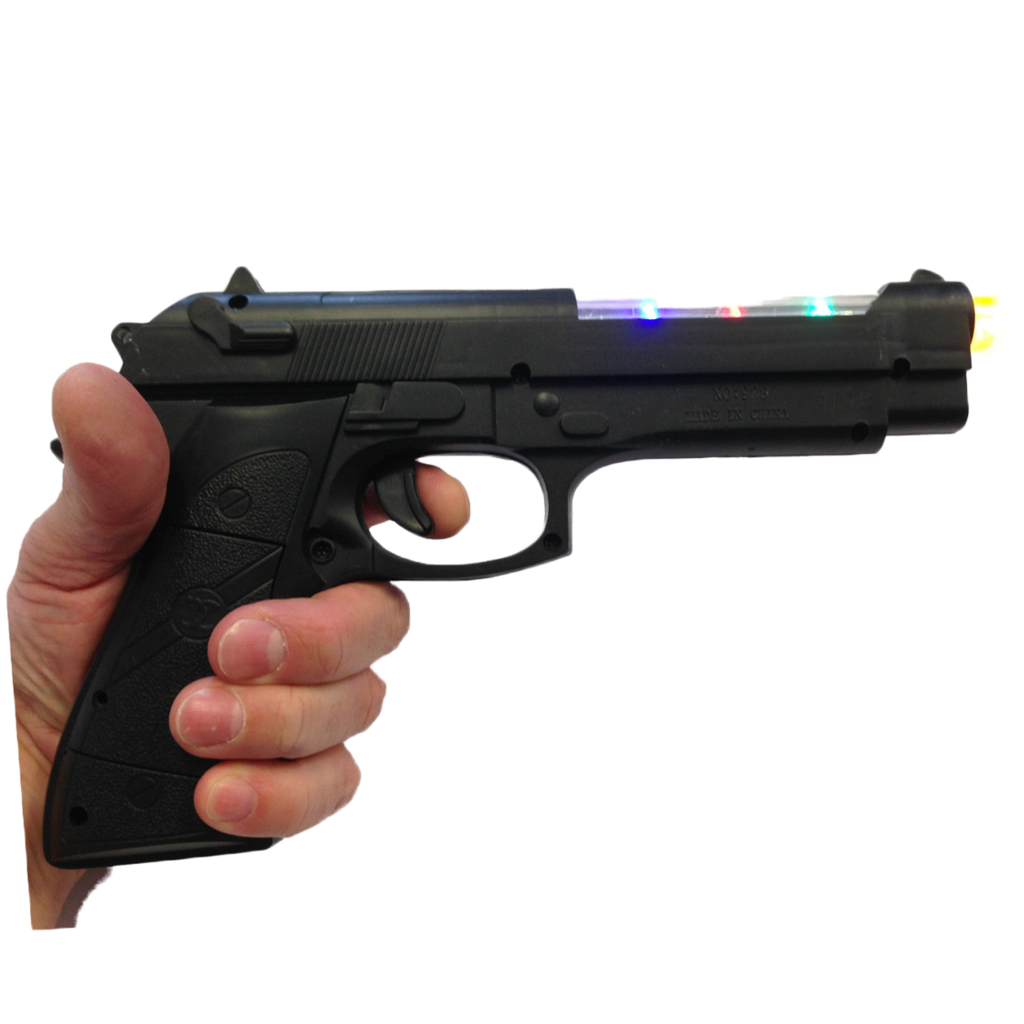Arma Falsa: (48, 257, 1003, 886)
